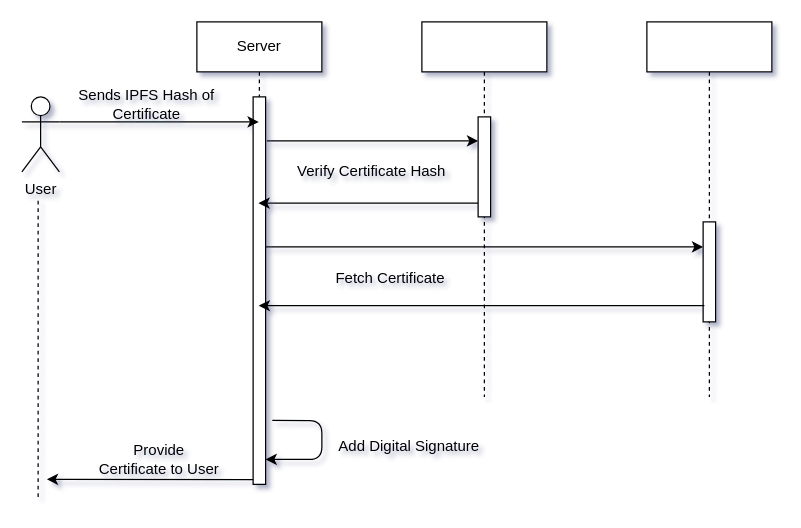
This 801x528 diagram has some shape labels left out. Each missing label, with the centre of its shape:
"Blockchain" belongs at (x=484, y=209).
"IPFS" belongs at (x=709, y=209).
